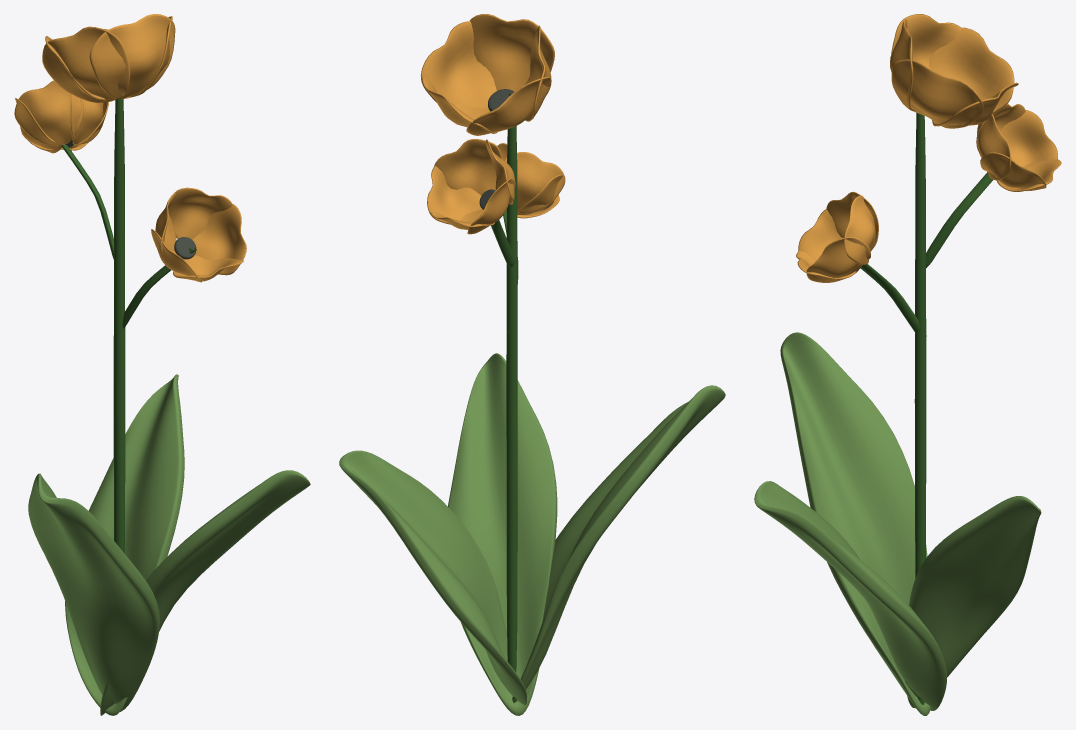
The model's file is flower6.fbx.
3 renders of one model, left to right at view 1: azimuth 30°, elevation 25°; view 2: azimuth 150°, elevation 25°; view 3: azimuth 270°, elevation 25°, orthographic. The views are drawn at different scales.
Parts seen in each view (by area): view 1: F6_group48_leaf4, F6_group42_pPlane20, pCylinder19; view 2: F6_group48_leaf4, F6_group42_pPlane20, pCylinder19; view 3: F6_group48_leaf4, F6_group42_pPlane20, pCylinder19.
Part boxes in pixels (x1=…): F6_group48_leaf4: x1=28, y1=374, x2=310, y2=715; F6_group42_pPlane20: x1=14, y1=14, x2=246, y2=328; pCylinder19: x1=113, y1=98, x2=125, y2=553; F6_group48_leaf4: x1=339, y1=353, x2=725, y2=715; F6_group42_pPlane20: x1=420, y1=14, x2=565, y2=333; pCylinder19: x1=506, y1=94, x2=517, y2=672; F6_group48_leaf4: x1=754, y1=332, x2=1041, y2=715; F6_group42_pPlane20: x1=796, y1=14, x2=1061, y2=336; pCylinder19: x1=914, y1=113, x2=926, y2=704.
Size of the model in its own units: 11.03 by 27.71 by 11.16.
